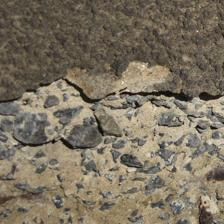Crack: (1, 37, 220, 73)
